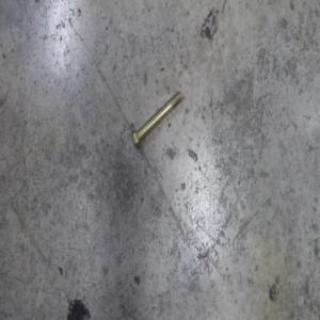Bolttrack_idkeyframe: (131, 88, 185, 148)
